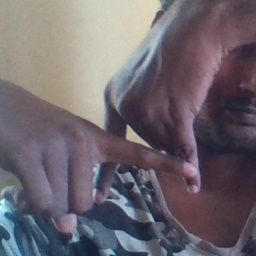H: (82, 98, 211, 215)
